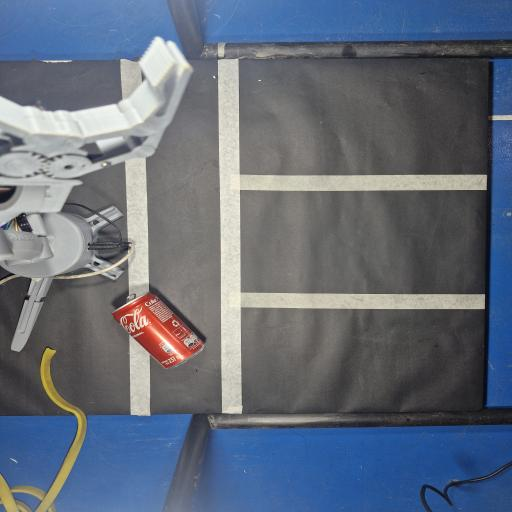lata: (112, 292, 204, 368)
